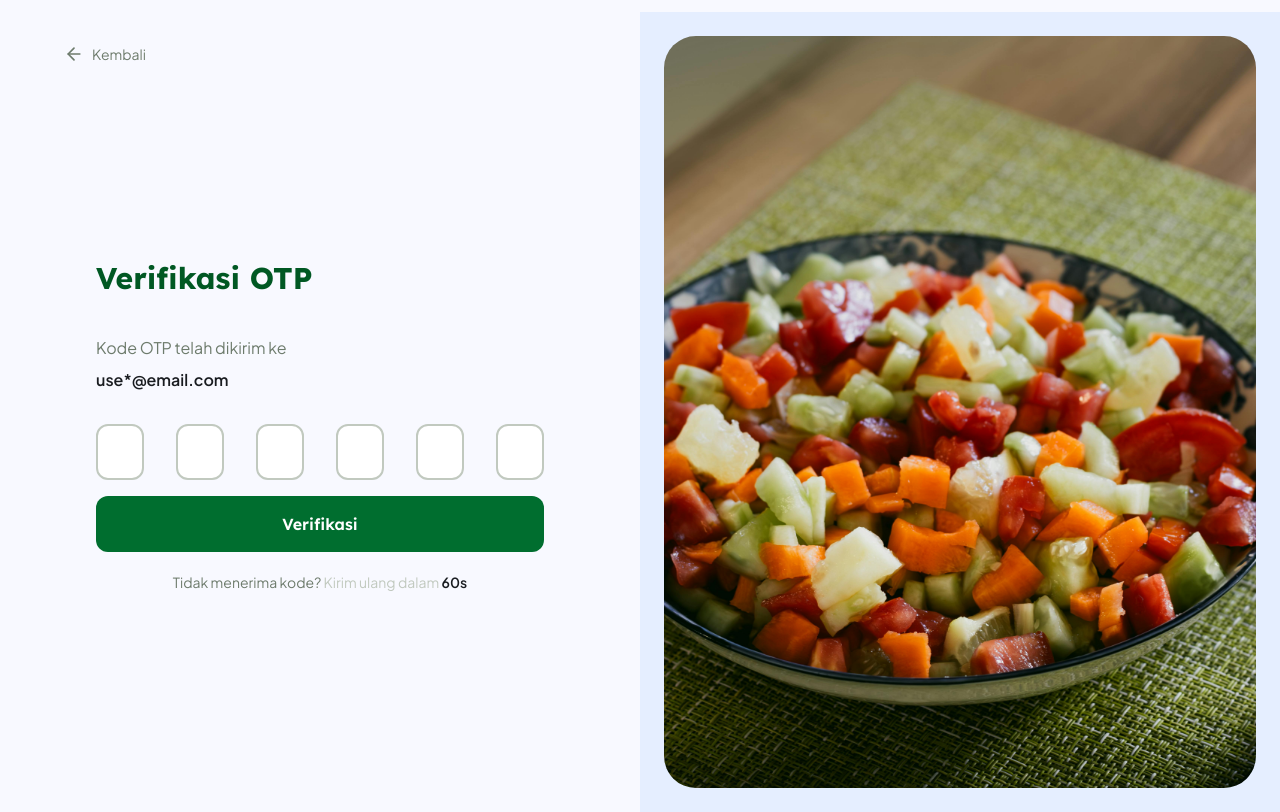
Test: ResetPasswordOtp Page › menampilkan error saat submit OTP tidak lengkap
The image size is (1280, 812).
Click the button "Verifikasi": click(320, 524) [96,496,544,552]
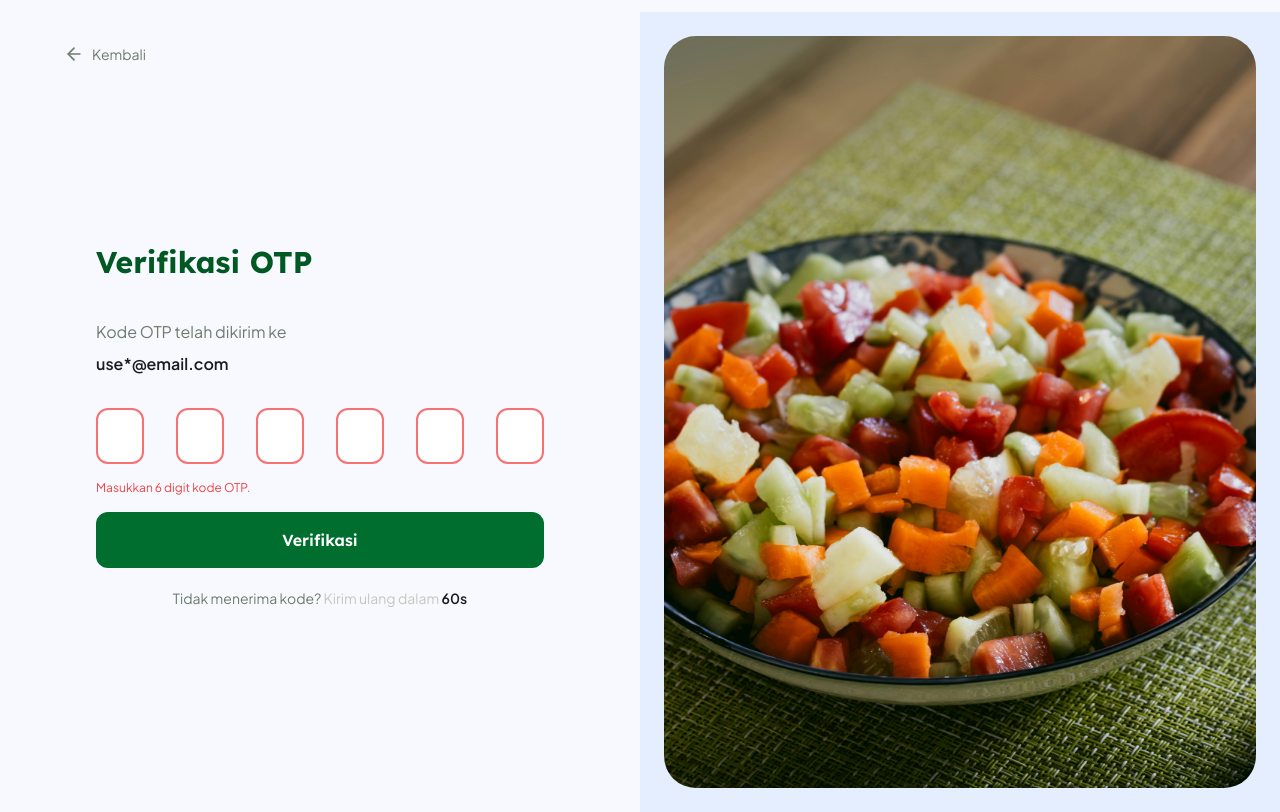
Now the text "Masukkan 6 digit kode OTP." is shown, box [96,480,250,495]
